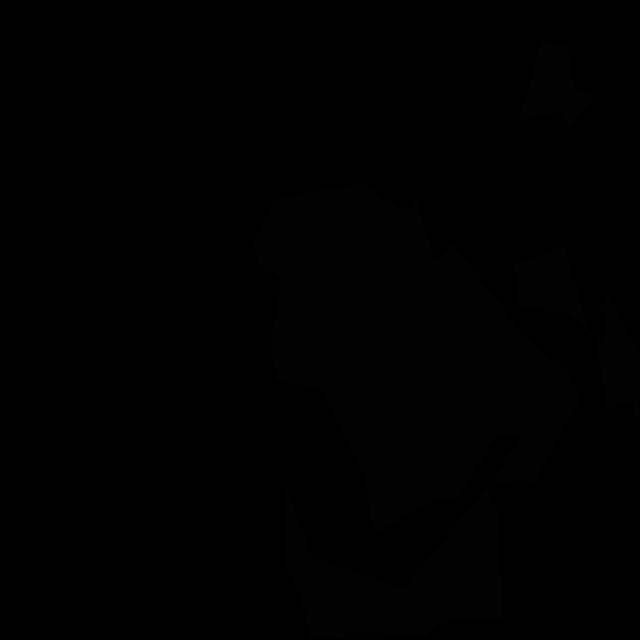cardboard: (252, 183, 582, 534), (284, 478, 503, 639), (514, 244, 640, 432), (518, 40, 594, 131)
